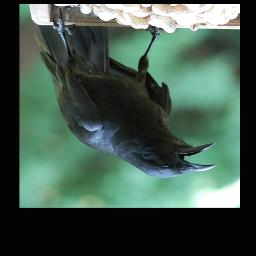Crow: (34, 8, 217, 178)
